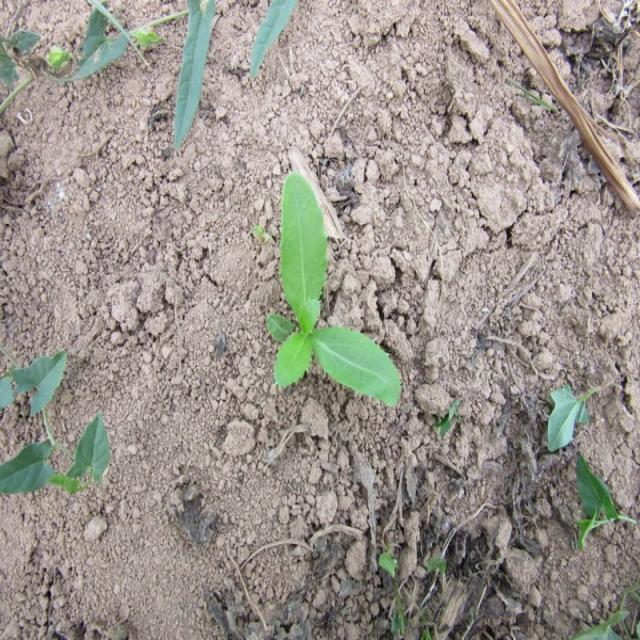field_thistle: (224, 162, 393, 423)
